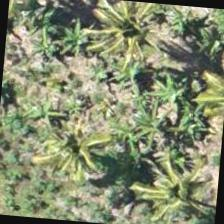Kelapa_Sawit: (24, 105, 122, 203), (107, 130, 206, 223), (84, 0, 181, 77)
